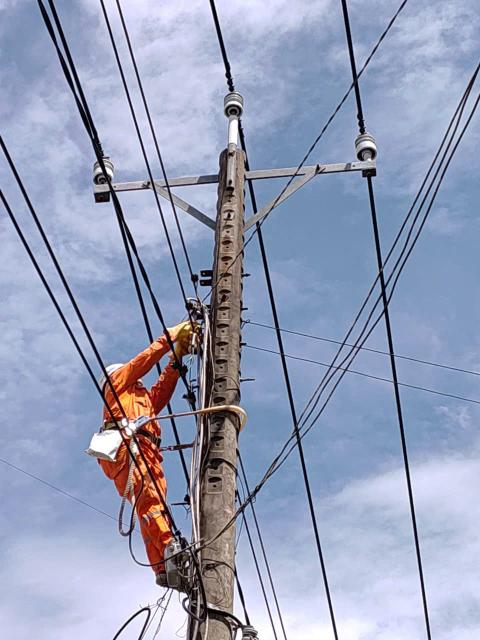gloves: (169, 329, 207, 367), (163, 321, 204, 339)
harness: (94, 414, 172, 447)
helmet: (88, 356, 132, 385)
